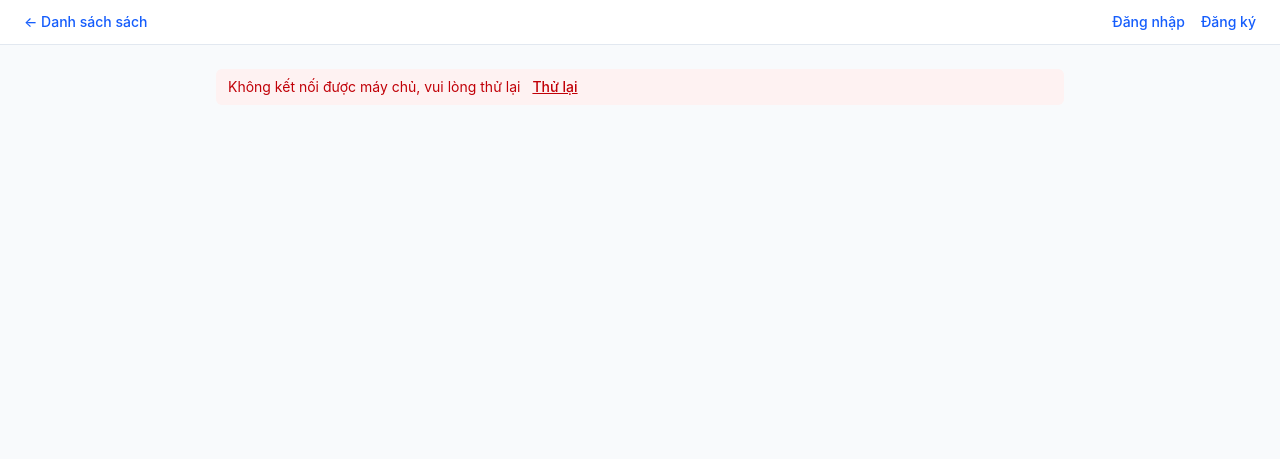
BookDetailPage (2.2.4) › lỗi mạng → thông báo và Thử lại
Click the button "Thử lại".
click(555, 87)  # box [532,77,578,97]
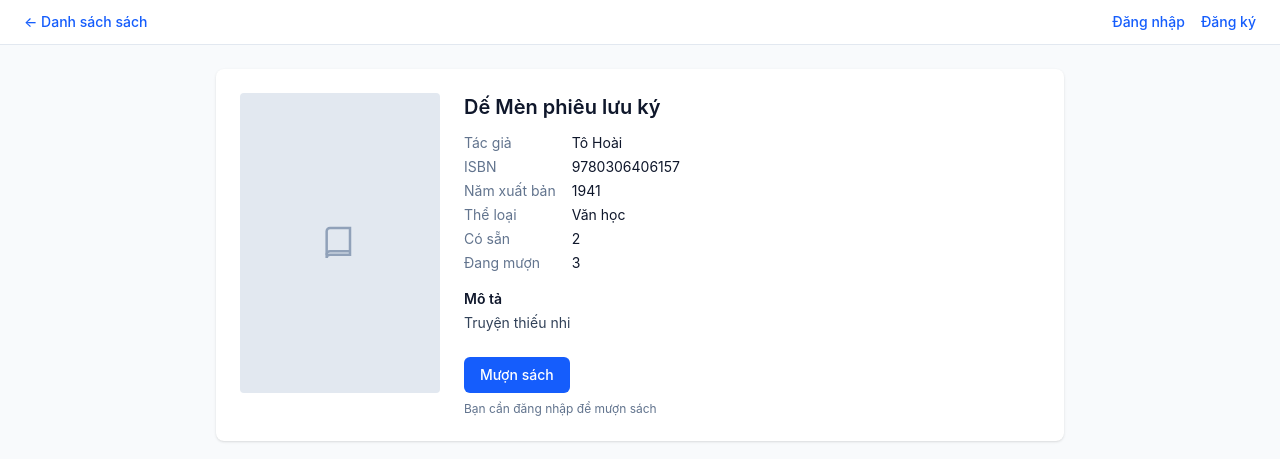
Expected: the element "Dế Mèn phiêu lưu ký" is shown, [216,69,1064,441]
